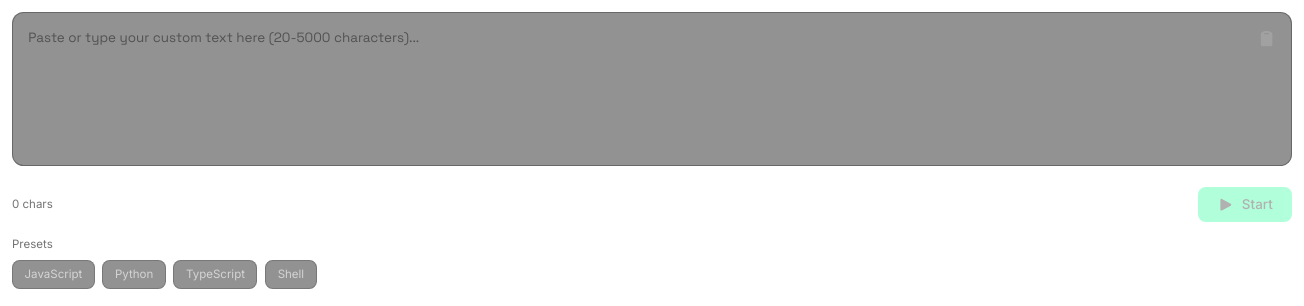
CustomTextInput › should enable Start button when text meets minimum length
In the text box with placeholder "Paste or type your custom text here (20-5000 characters)...": (652, 89) x1=12 y1=12 x2=1292 y2=166, type "This is a valid custom text that is long enough to pass validation"
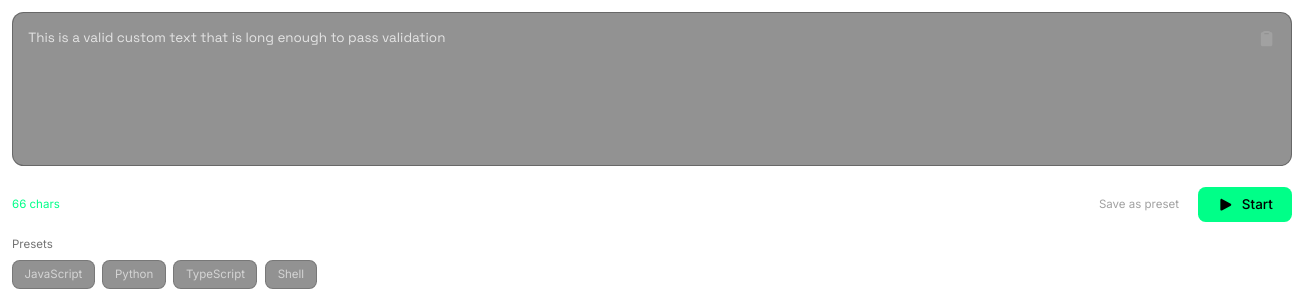
Result: the button "Start" is enabled at x1=1198 y1=187 x2=1292 y2=222
